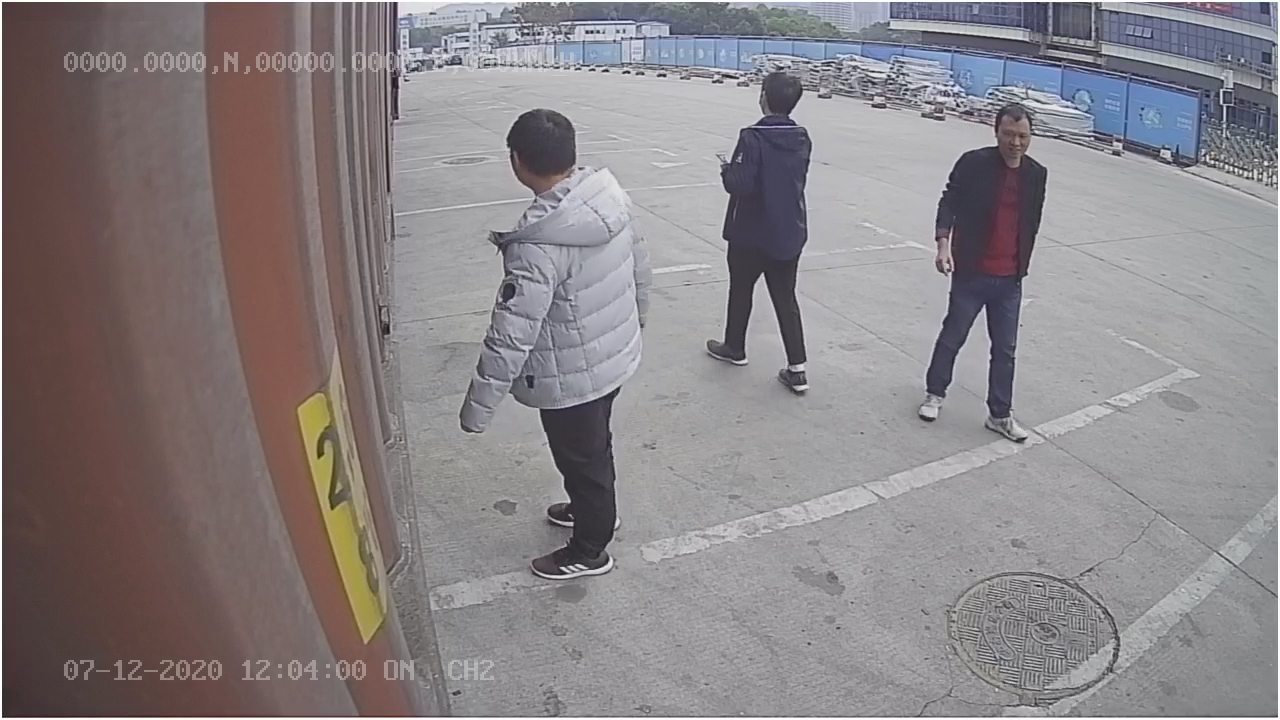person: (458, 106, 662, 581), (915, 95, 1042, 442), (707, 70, 814, 392)
